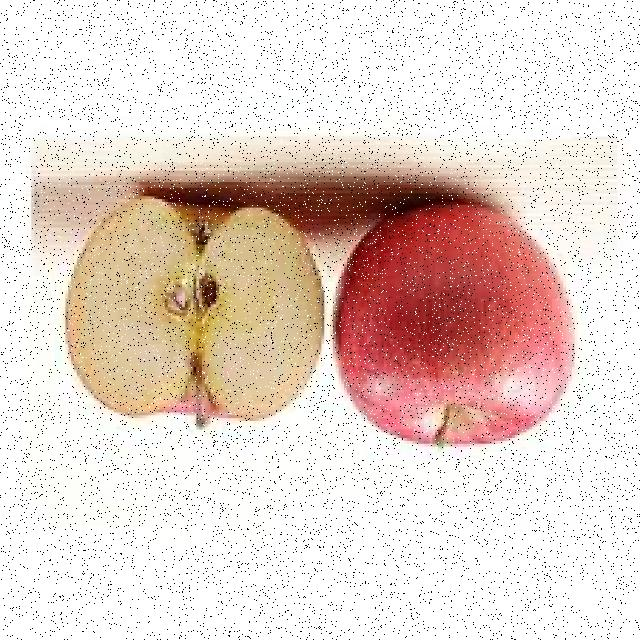Apple: (62, 196, 327, 426), (335, 203, 574, 455)
